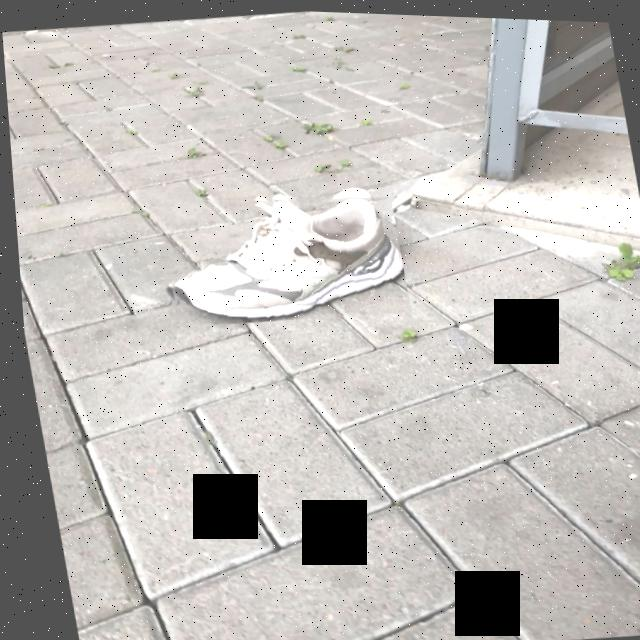shoe: (167, 193, 399, 321)
